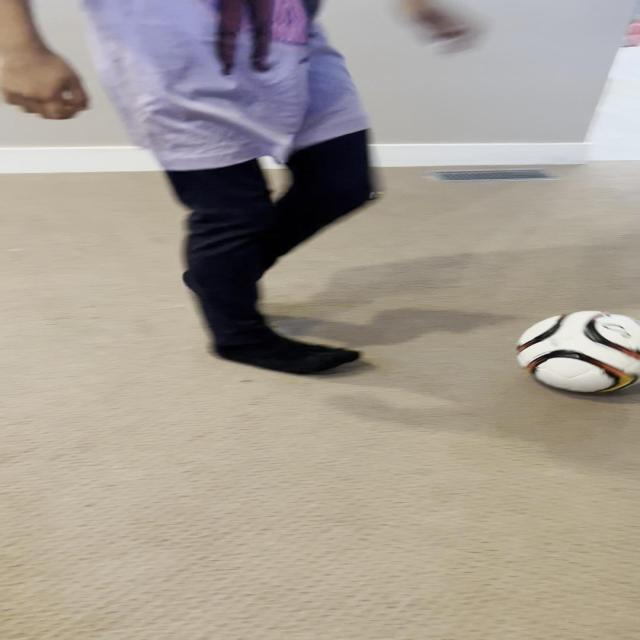Soccer Ball: (515, 310, 640, 392)
